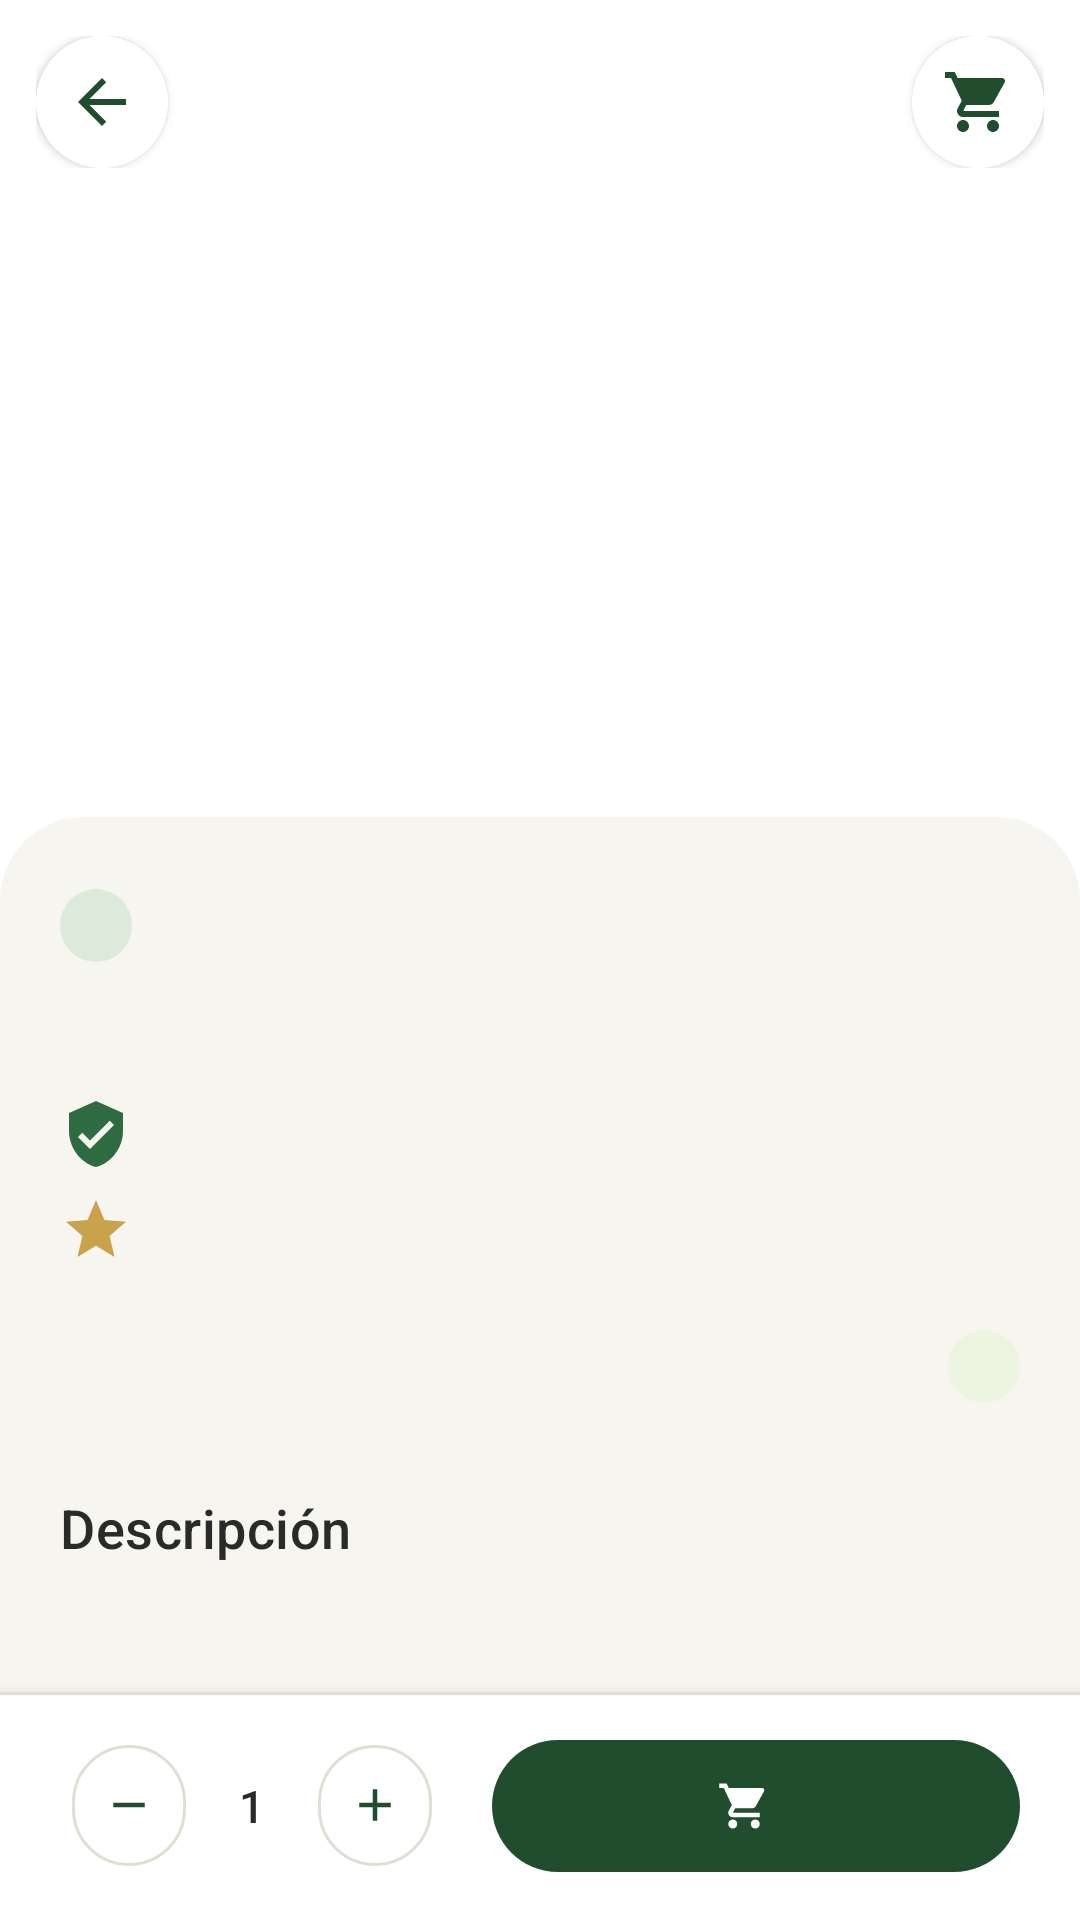

Icon bounding boxes for this 1080px x 1920px phone screenshot, format (x1, y1, x2, y2):
Aumentar cantidad: (318, 1745, 432, 1866)
Disminuir cantidad: (72, 1745, 186, 1866)
Ver carrito: (945, 51, 1044, 166)
Volver: (36, 51, 126, 166)
